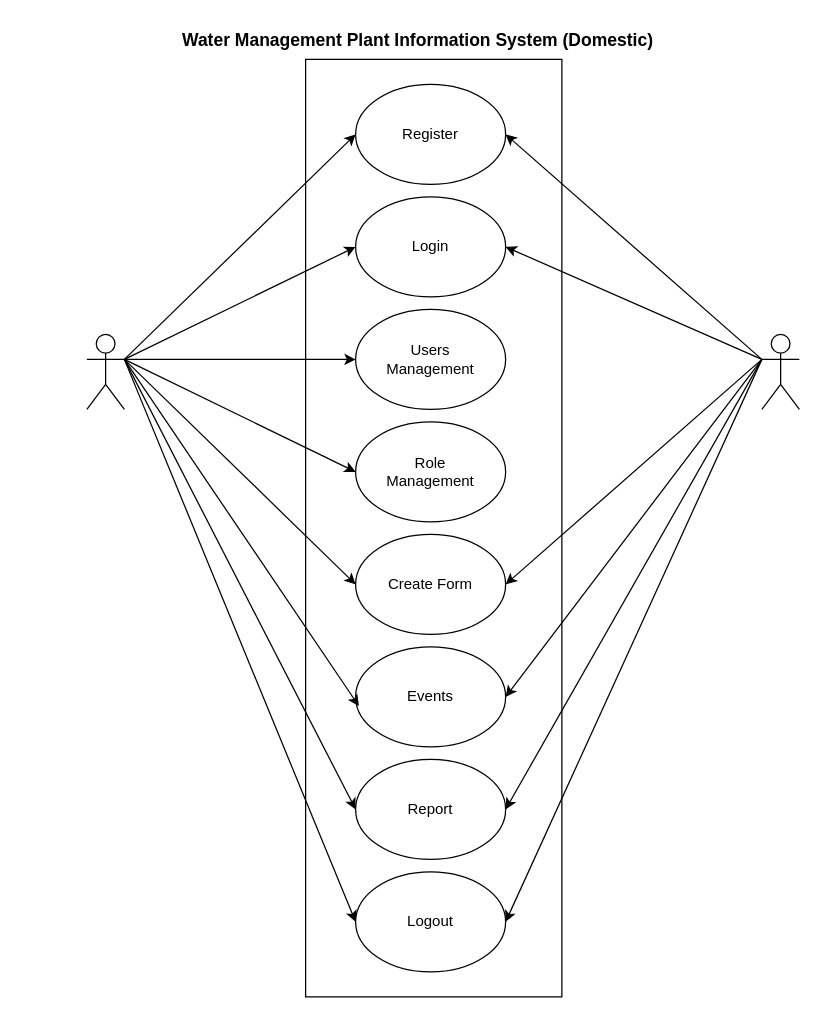
Some shapes in this 821 by 1019 pixel diagram are drawn without their labels. The box of each missing label's shape, as (x1, y1, x2, y2) in pixels:
Clerk: (761, 333, 799, 409)
Operating Units Manager: (86, 333, 124, 409)
